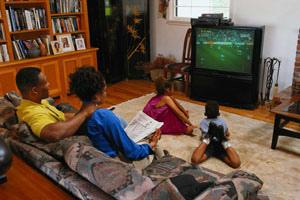person: (69, 66, 161, 162)
